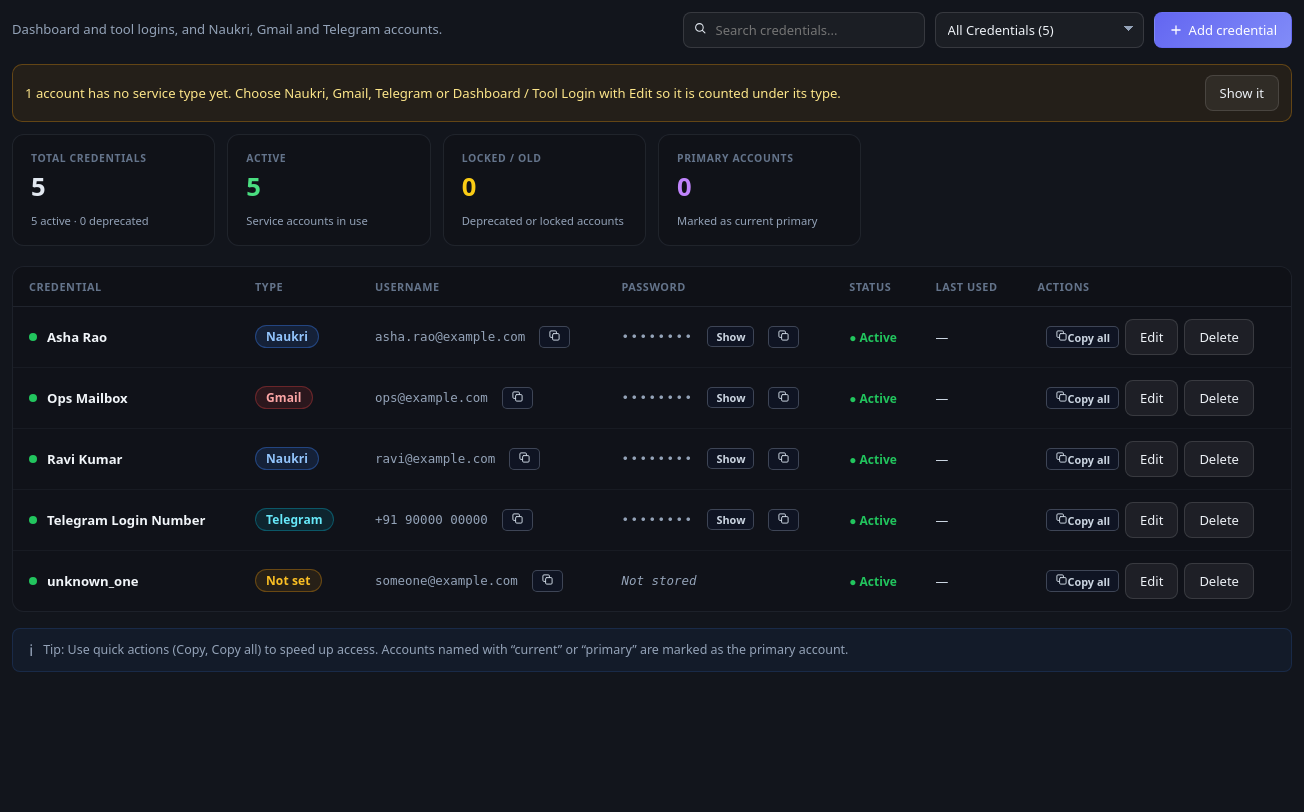
Test case: every row › reads a password from the server only when asked, and hides it again
Expected: the text "Asha-Pass-1" is not shown
Click the button with aria-label "Show password for Asha Rao".
click(731, 337)  # box [708,326,754,347]
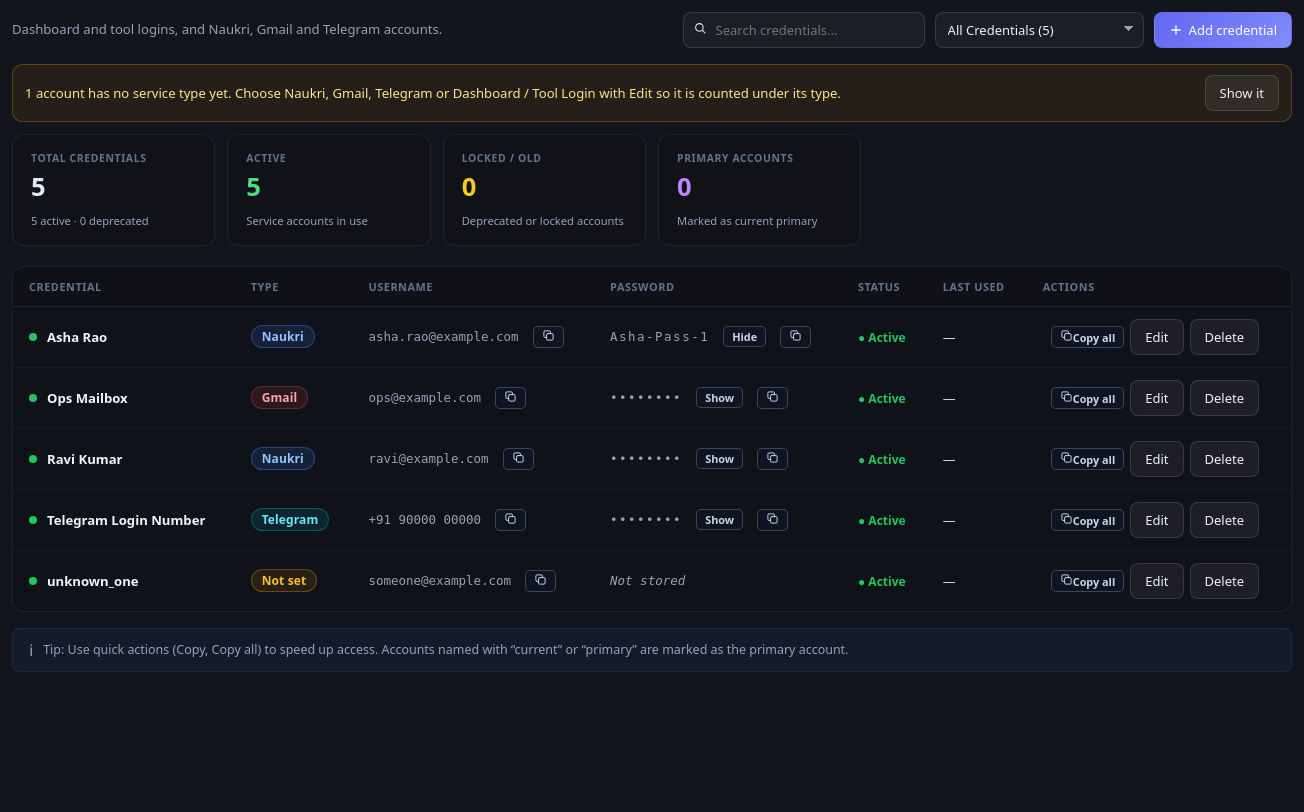
Result: the text with class "dr-creds-pass" reads "Asha-Pass-1" at [610,329,709,344]
Click the button with aria-label "Hide password for Asha Rao".
click(745, 337)  # box [723,326,766,347]
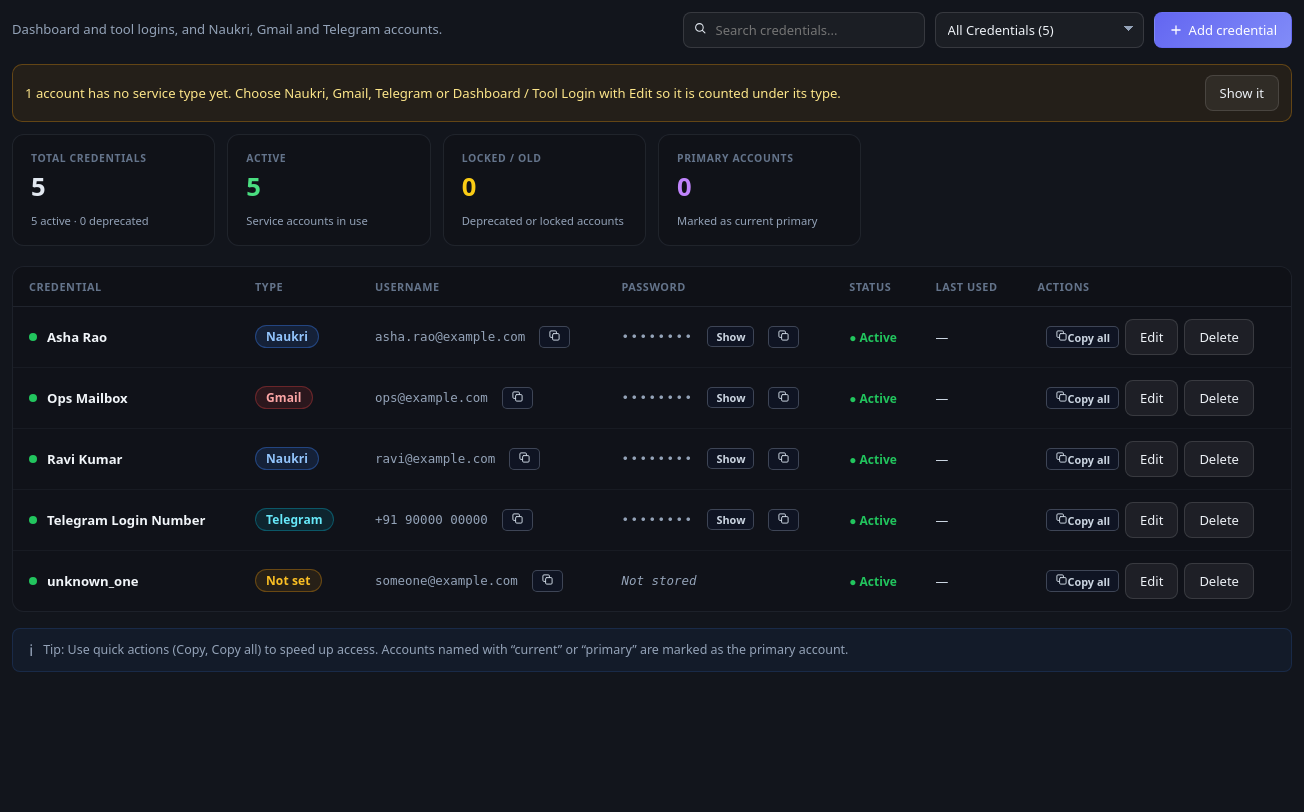
Result: the text with class "dr-creds-pass" in the row of "Asha Rao" reads "••••••••" at [621,329,693,344]
